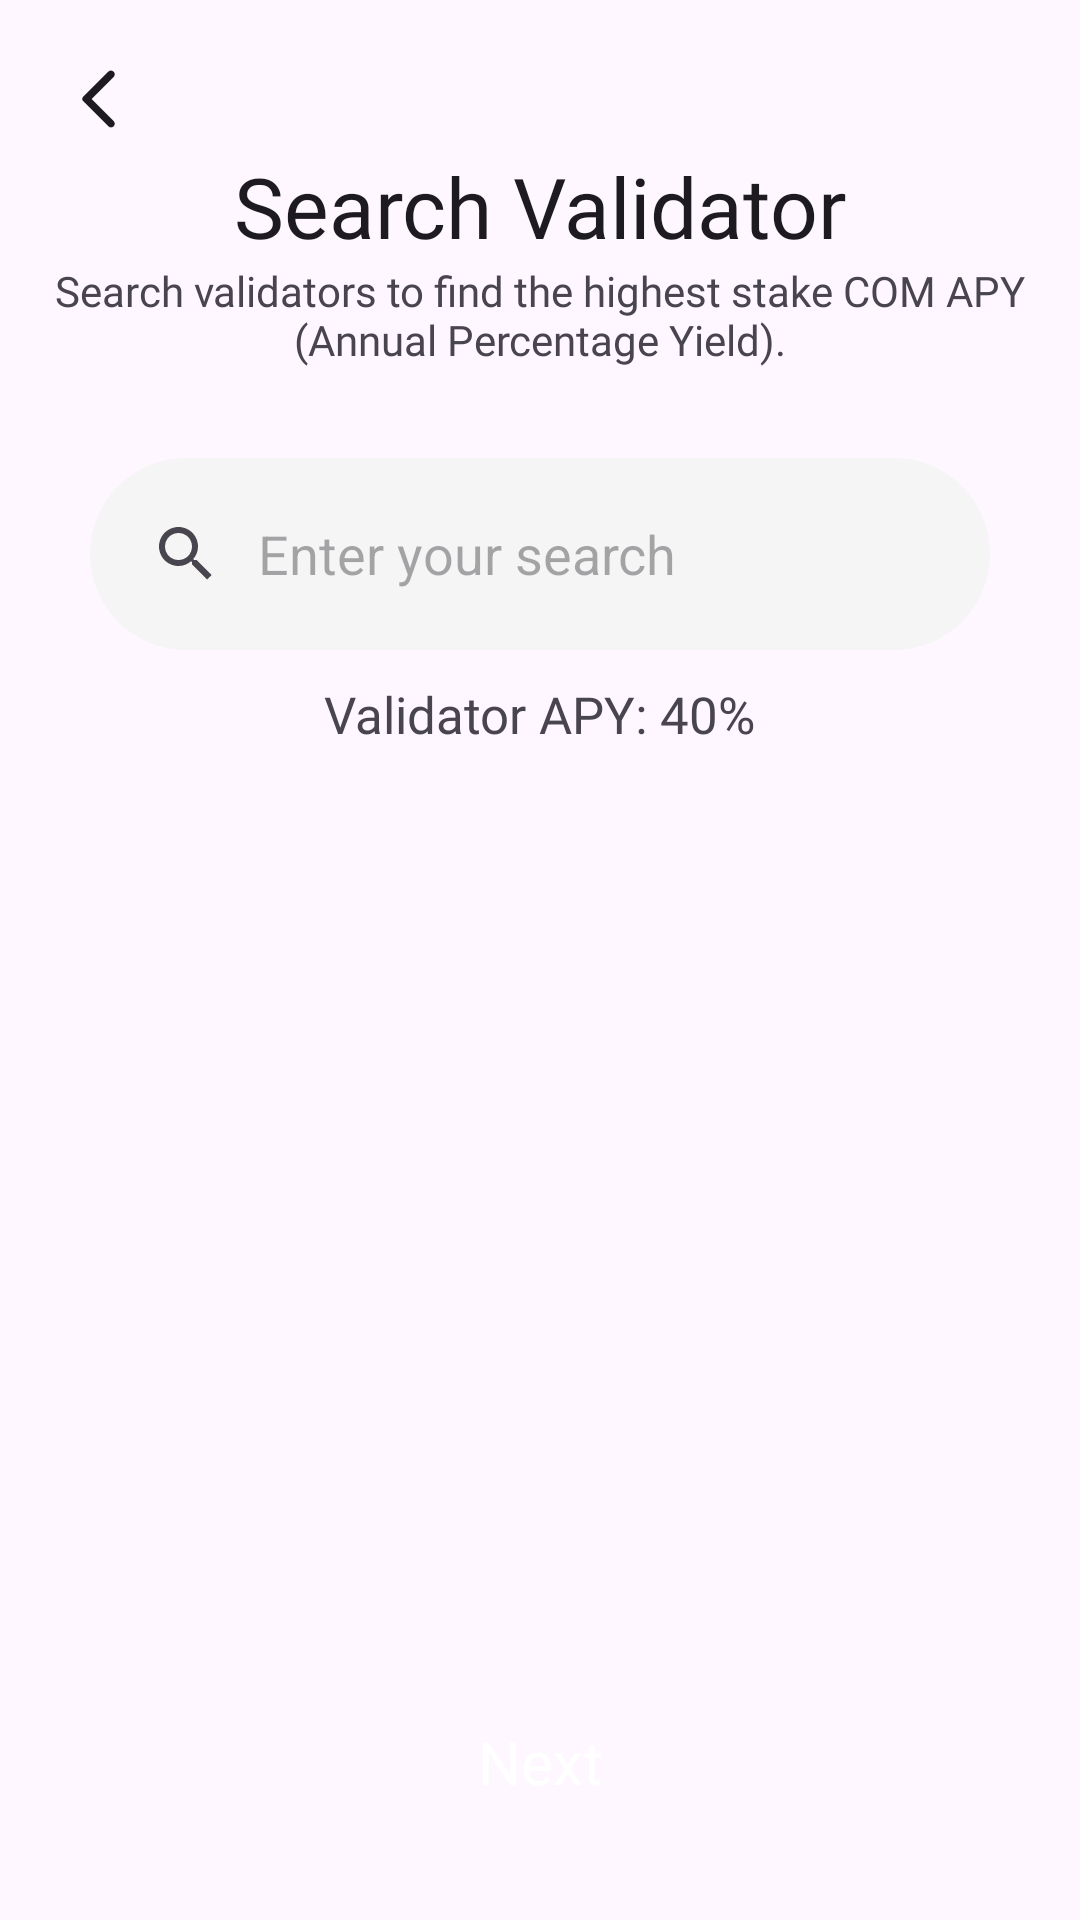

Screen size 1080*1920. Icon name, then its center in pixels as (x,y):
arrow back: (98,99)
